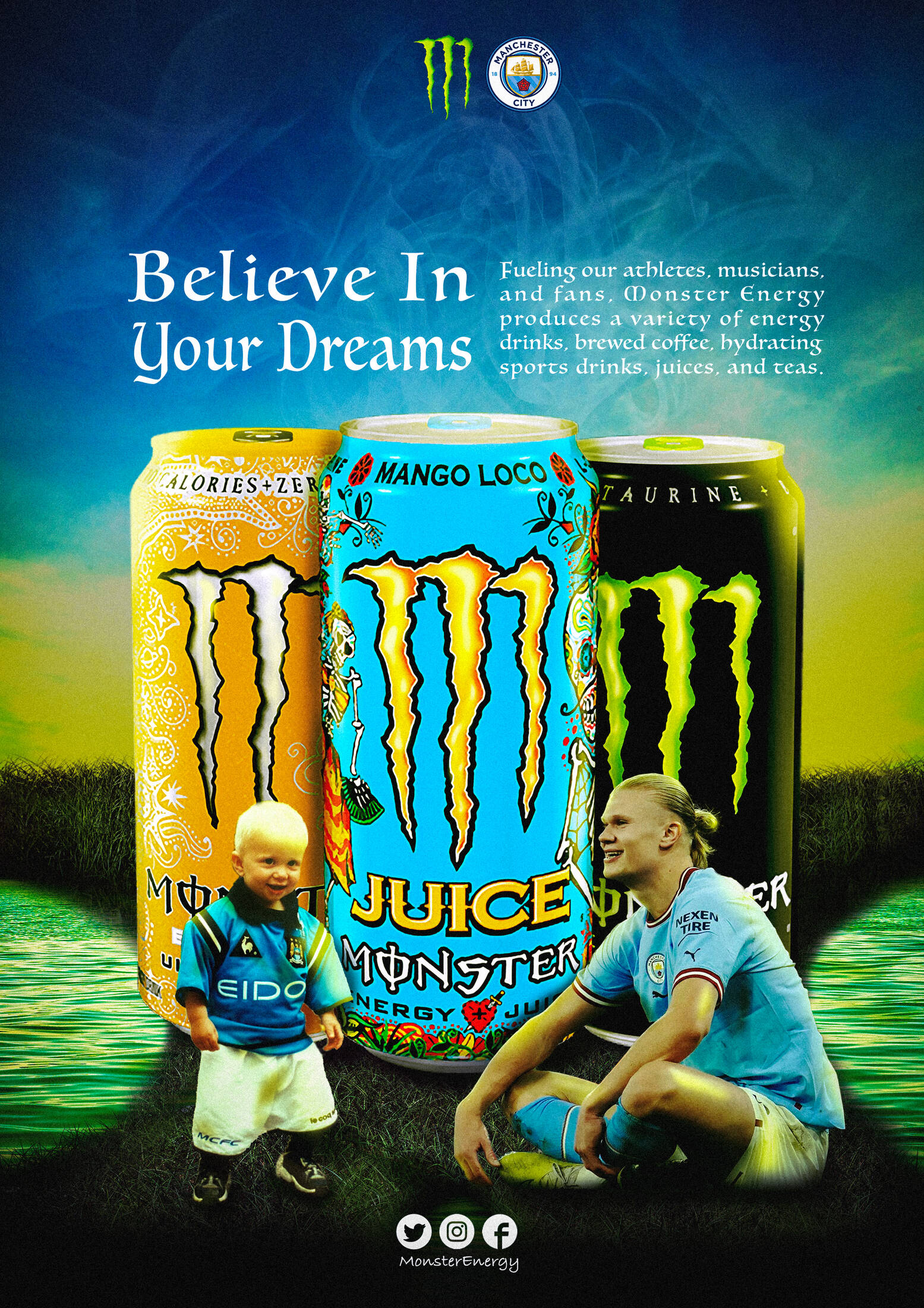Headline: (84, 201, 865, 402)
Product: (114, 411, 843, 1064)
logo: (340, 541, 577, 999), (586, 539, 774, 854), (148, 551, 327, 822), (395, 26, 497, 124)
